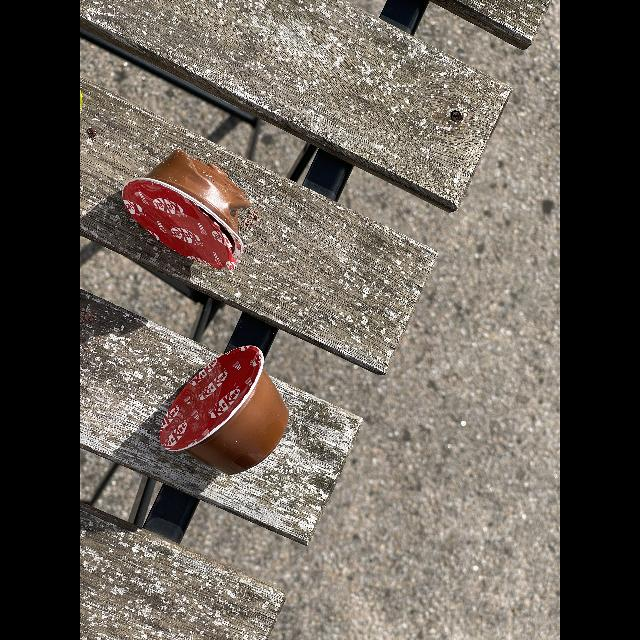damaged_capsule: (120, 148, 254, 282)
intact_capsule: (151, 343, 289, 479)
